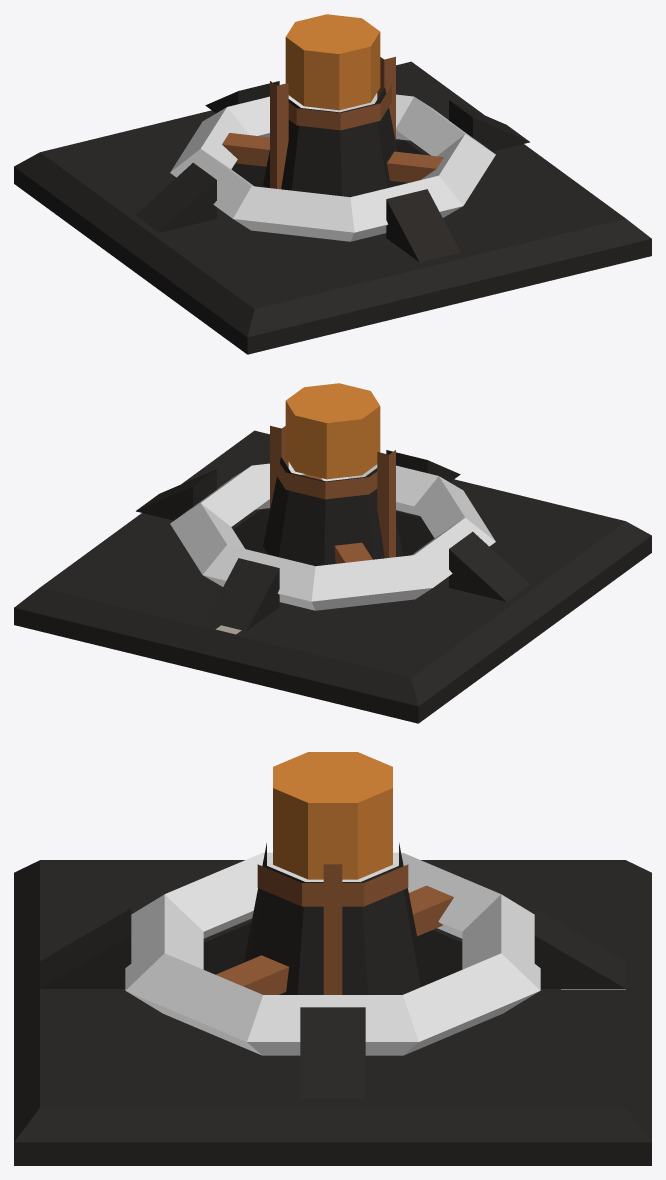
The model's file is str_t1_mex.67b25001.raw.glb.
3 renders of one model, top to bottom at view 1: azimuth 30°, elevation 25°; view 2: azimuth 150°, elevation 25°; view 3: azimuth 270°, elevation 25°, orthographic. The views are drawn at different scales.
Parts seen in each view (by area): view 1: lod0; view 2: lod0; view 3: lod0.
Part boxes in pixels (bbox=[...]): lod0: bbox=[14, 14, 651, 354]; lod0: bbox=[14, 383, 651, 723]; lod0: bbox=[14, 752, 651, 1165].
Size of what is drawn, in the model's own units: 1.96 by 0.86 by 1.96.
